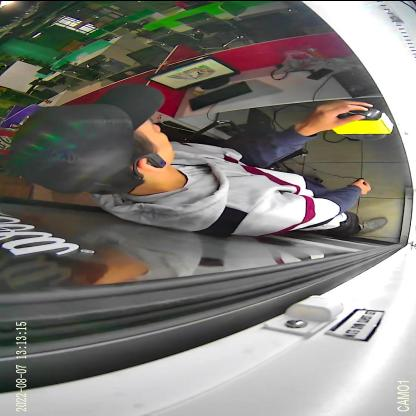yellow: (331, 106, 393, 140)
